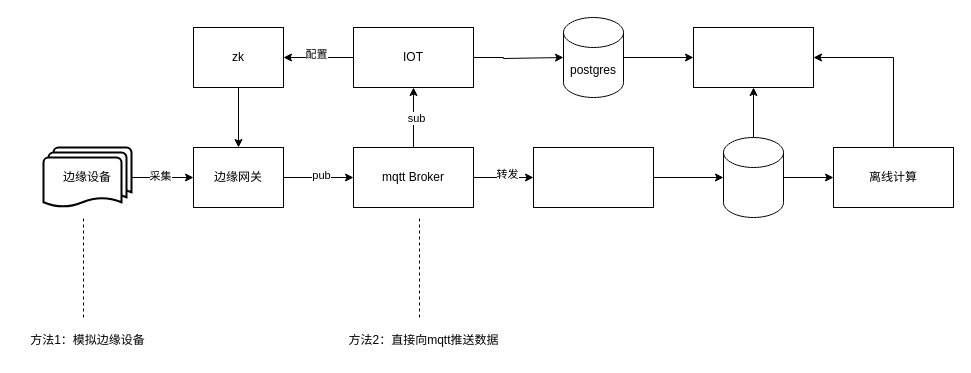
The diagram is 971 pixels wide and 373 high, and some of its shapes have lost their labels. The centre of each missing label's shape, as x and y in pixels:
doris: (x=753, y=177)
kafka: (x=593, y=177)
业务系统: (x=753, y=57)
